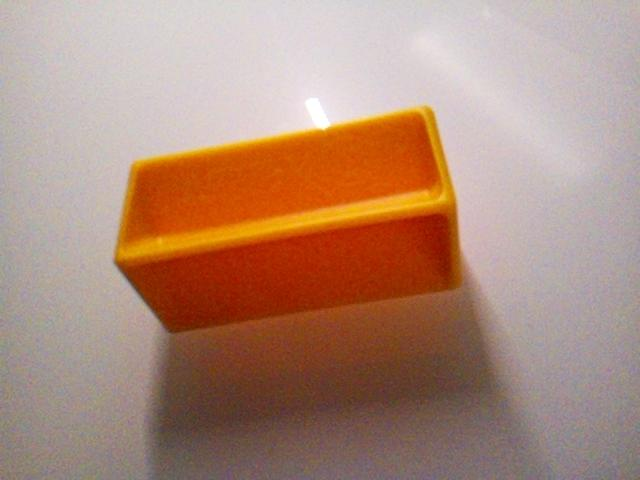yellow: (113, 102, 465, 335)
